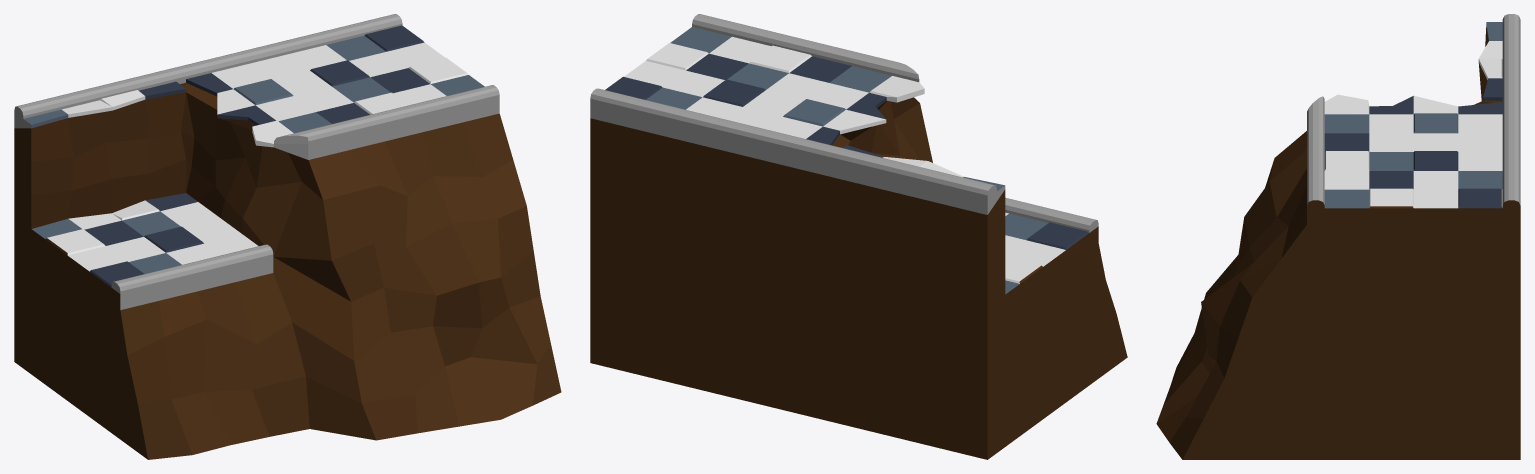
File: road_breakA.fbx
3 views of the same model, side by side, from view 1: azimuth 30°, elevation 25°; view 2: azimuth 150°, elevation 25°; view 3: azimuth 270°, elevation 25° (orthographic). The views are drawn at different scales.
Parts seen in each view (by area): view 1: road_line_breakA; view 2: road_line_breakA; view 3: road_line_breakA.
Boxes of the visible parts, <box> form: road_line_breakA: <box>14,14,561,459</box>; road_line_breakA: <box>590,14,1127,459</box>; road_line_breakA: <box>1156,14,1520,459</box>.
Bounding box in the file's own units: 496 × 322 × 409.
